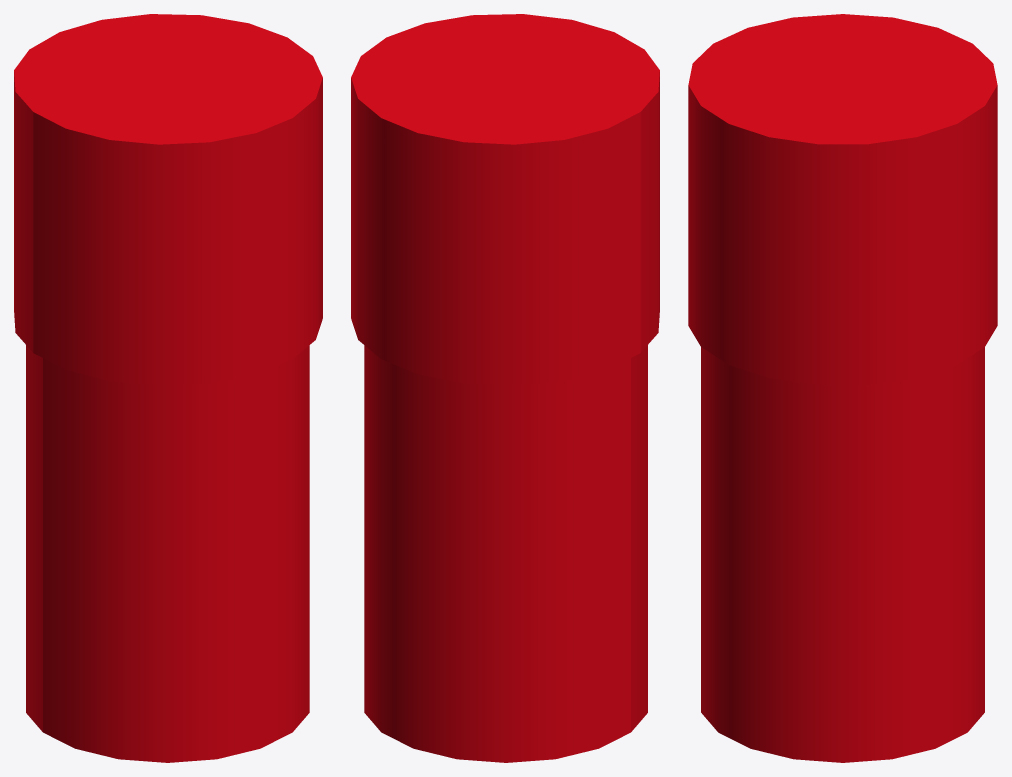
The model's file is shtok.fbx.
3 renders of one model, left to right at view 1: azimuth 30°, elevation 25°; view 2: azimuth 150°, elevation 25°; view 3: azimuth 270°, elevation 25°, orthographic.
Parts seen in each view (by area): view 1: shtok.001; view 2: shtok.001; view 3: shtok.001.
Part boxes in pixels (bbox=[...]): shtok.001: bbox=[14, 14, 322, 762]; shtok.001: bbox=[351, 14, 659, 762]; shtok.001: bbox=[688, 14, 997, 762].
Size of the model in its own units: 1.39 by 3.1 by 1.4.
1 material, 1 textured.
